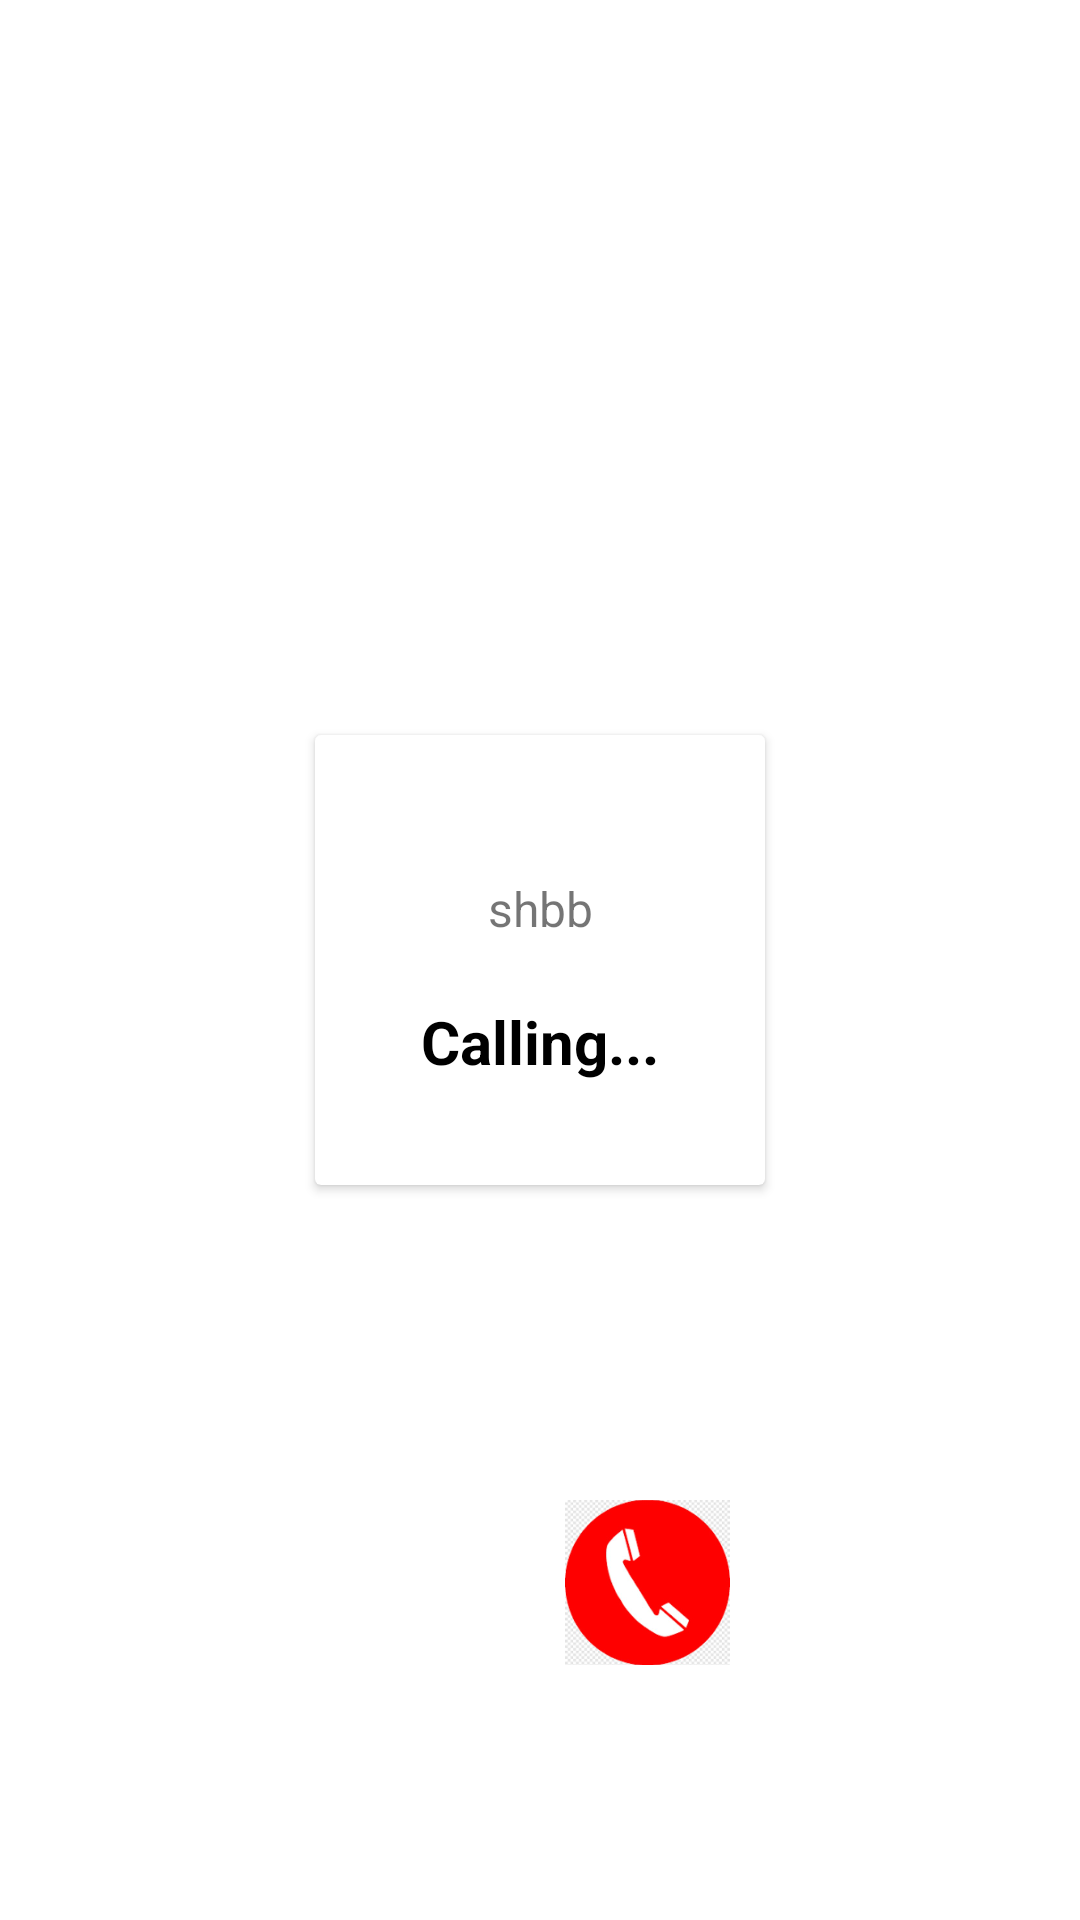

Screen size 1080 × 1920. Icon name, then its center in pixels as [x,y]:
dismiss: [647,1582]
